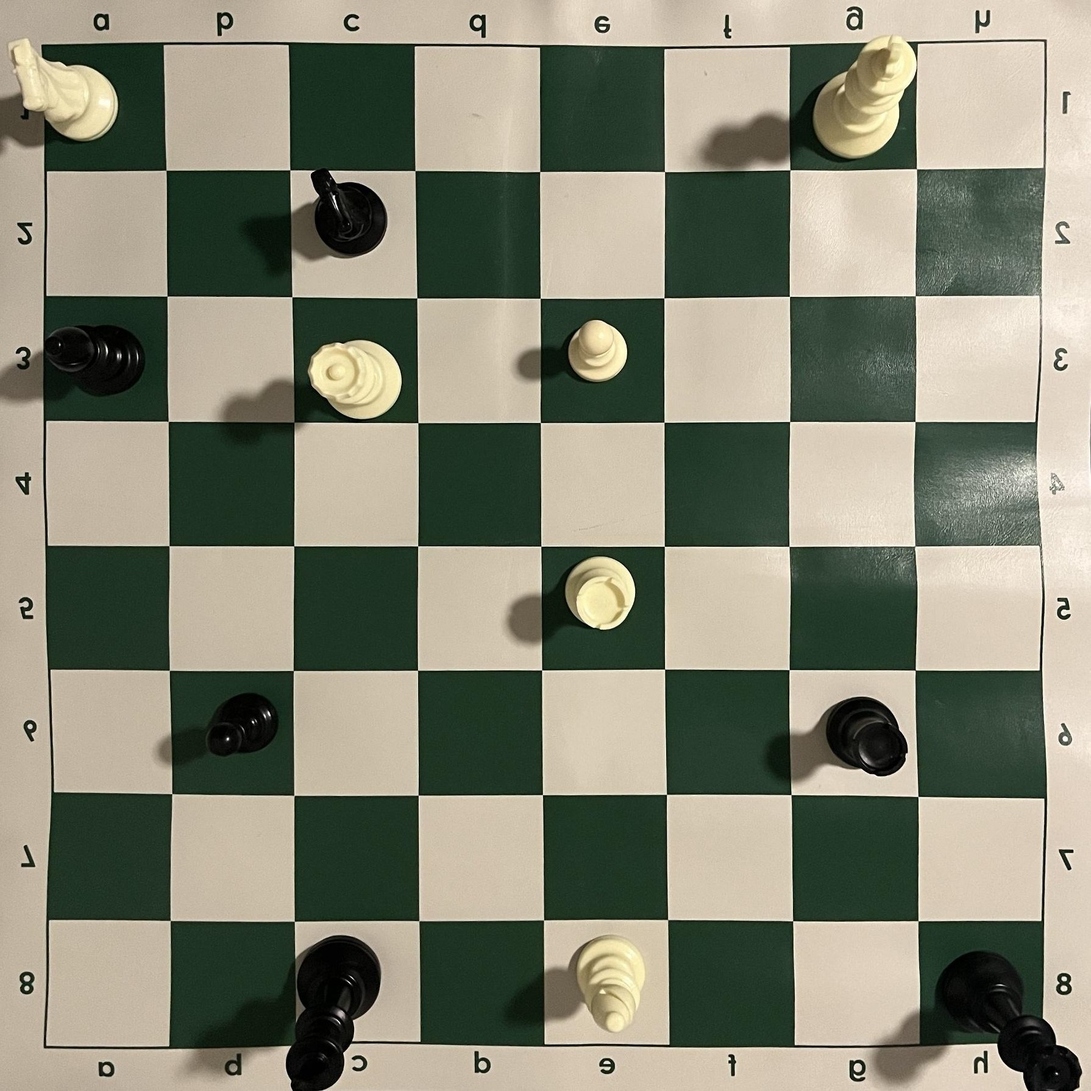black_bishop: (44, 324, 147, 396)
black_king: (284, 933, 383, 1091)
black_knight: (310, 168, 388, 258)
black_pawn: (204, 692, 280, 758)
black_queen: (934, 948, 1084, 1091)
black_rook: (825, 695, 909, 777)
white_bishop: (575, 933, 647, 1034)
white_king: (812, 34, 918, 160)
white_knight: (8, 36, 120, 142)
white_pawn: (566, 318, 629, 384)
white_queen: (307, 338, 403, 421)
white_rook: (563, 555, 637, 631)
